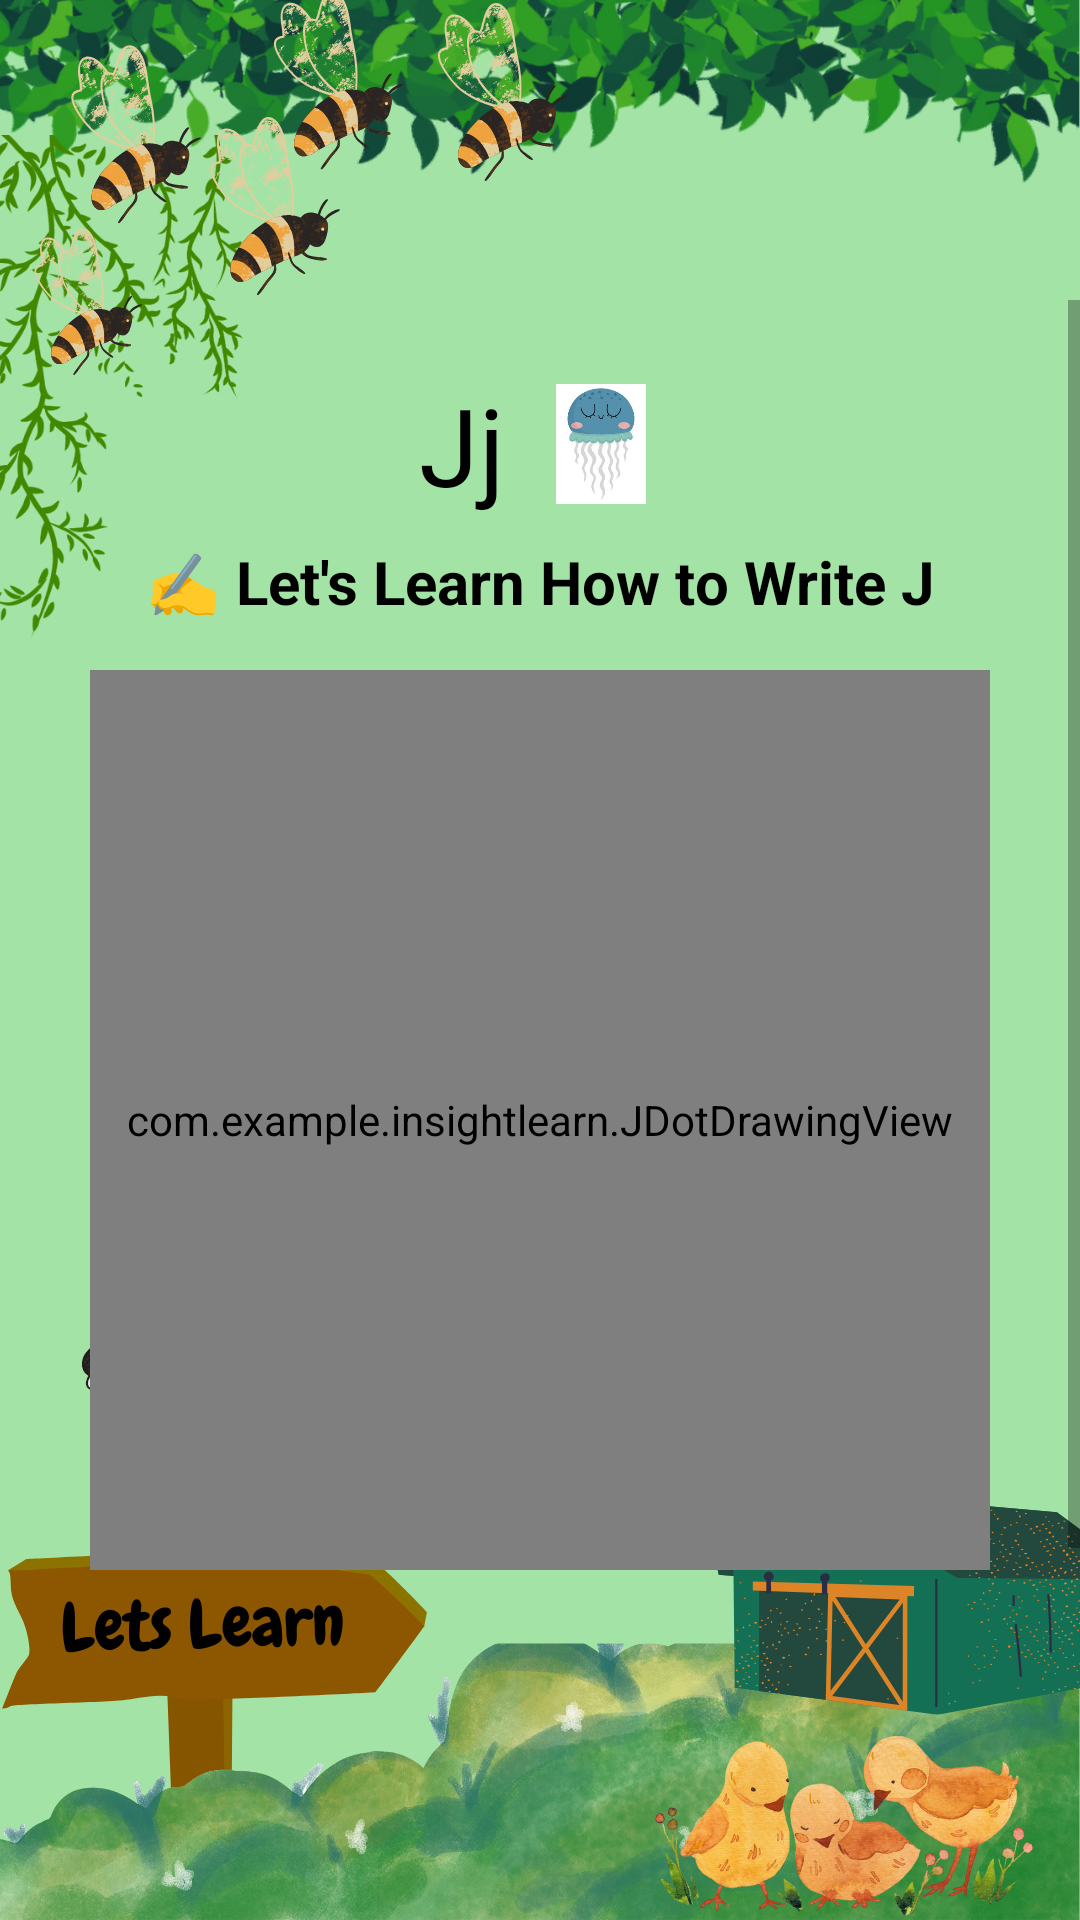

Locate icon controls on the screen. Image size 1080 × 1920, boxes as [x1, y1, x2, y2].
Jellyfish: [556, 384, 646, 504]
